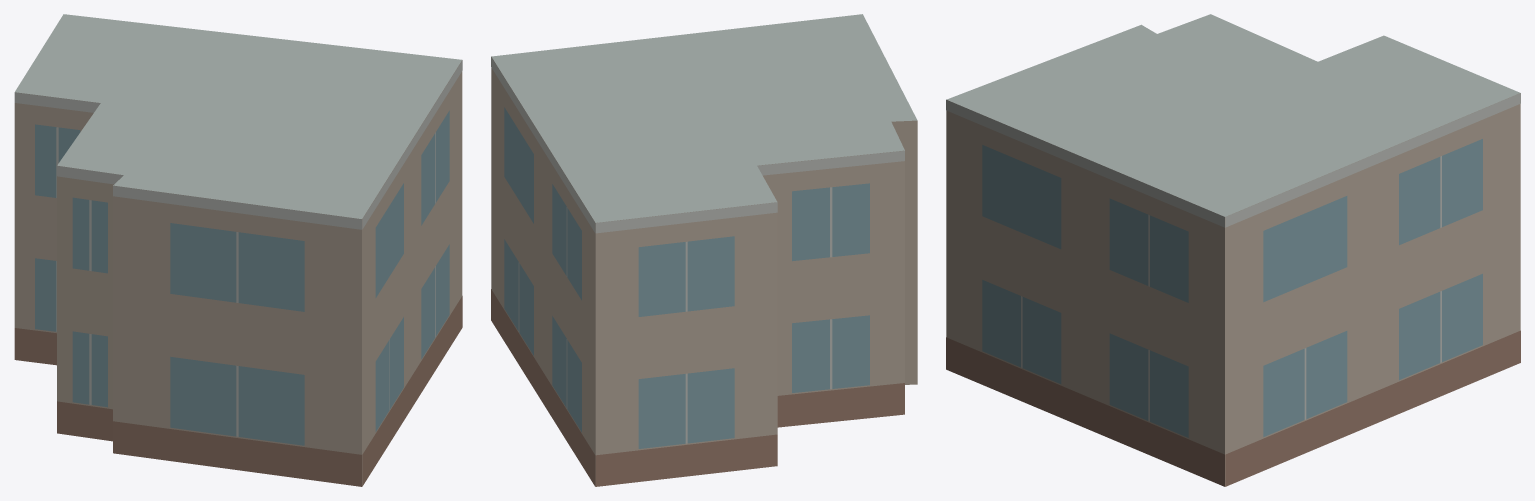
Rendered from survey-upis-32772761.glb.
3 views of the same model, side by side, from view 1: azimuth 30°, elevation 25°; view 2: azimuth 150°, elevation 25°; view 3: azimuth 270°, elevation 25° (orthographic). The views are drawn at different scales.
Visible parts, largest first — view 1: survey-upis-32772761.tmp; view 2: survey-upis-32772761.tmp; view 3: survey-upis-32772761.tmp.
Boxes of the visible parts, x1,y1,x2,y2 form: survey-upis-32772761.tmp: (14,14,462,486); survey-upis-32772761.tmp: (491,14,917,486); survey-upis-32772761.tmp: (946,14,1520,486).
Bounding box in the file's own units: 9.85 × 6.1 × 11.77.
